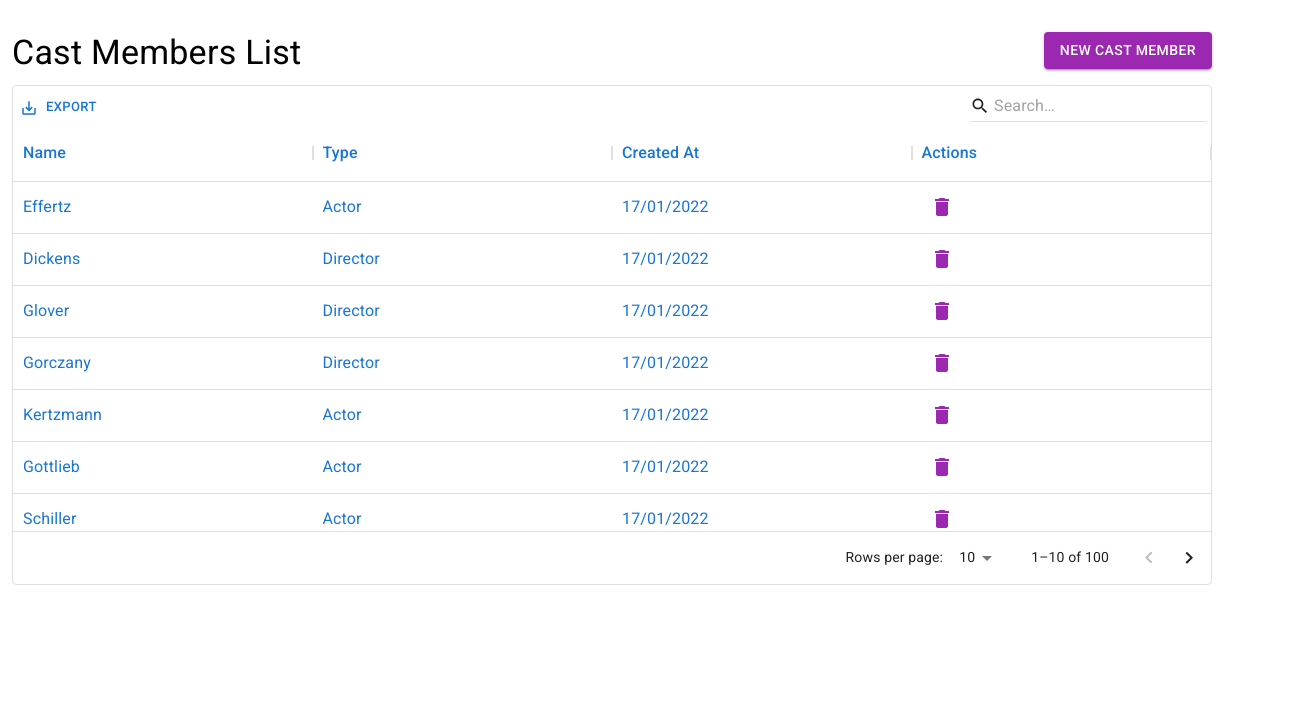
CastMemberList › should handle delete category success
expect the text "Effertz" is shown: met, box [23, 195, 71, 219]
Click the button with test id "delete-button" in the row of "Effertz": x=942, y=207 [922, 187, 962, 227]
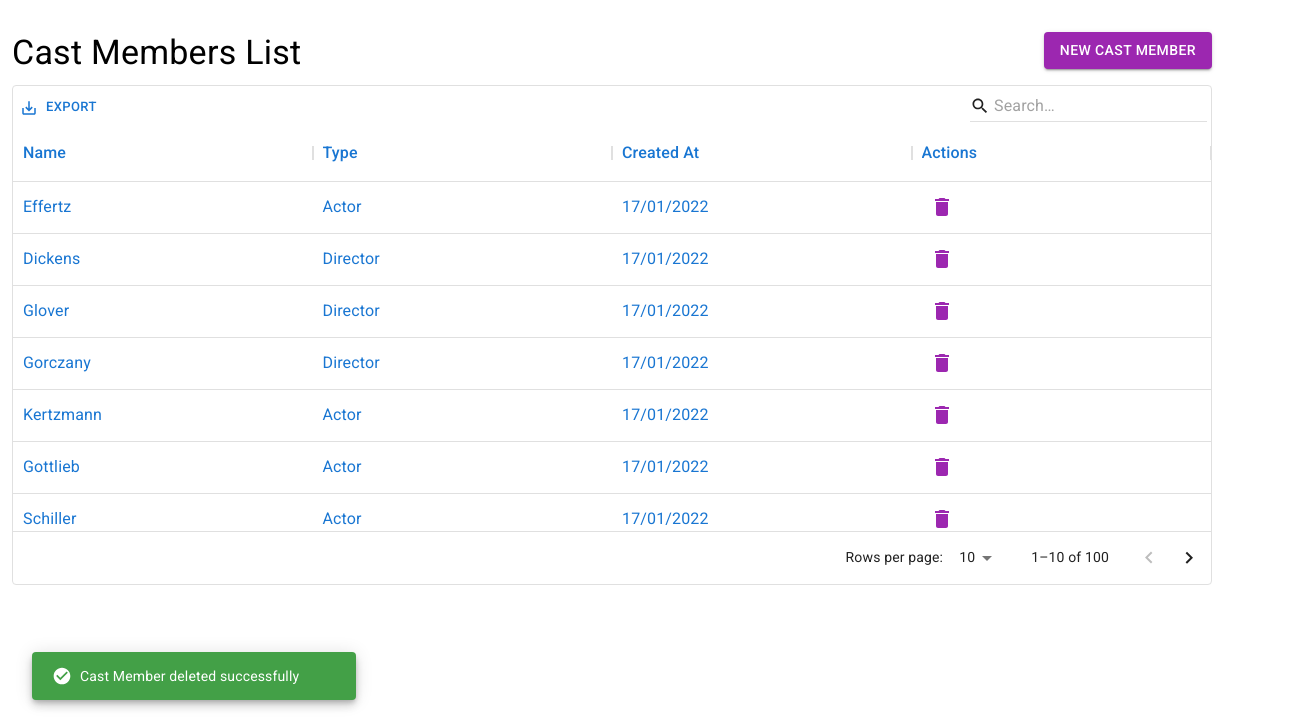
expect the text "Cast Member deleted successfully" is shown: met, box [52, 666, 299, 686]
